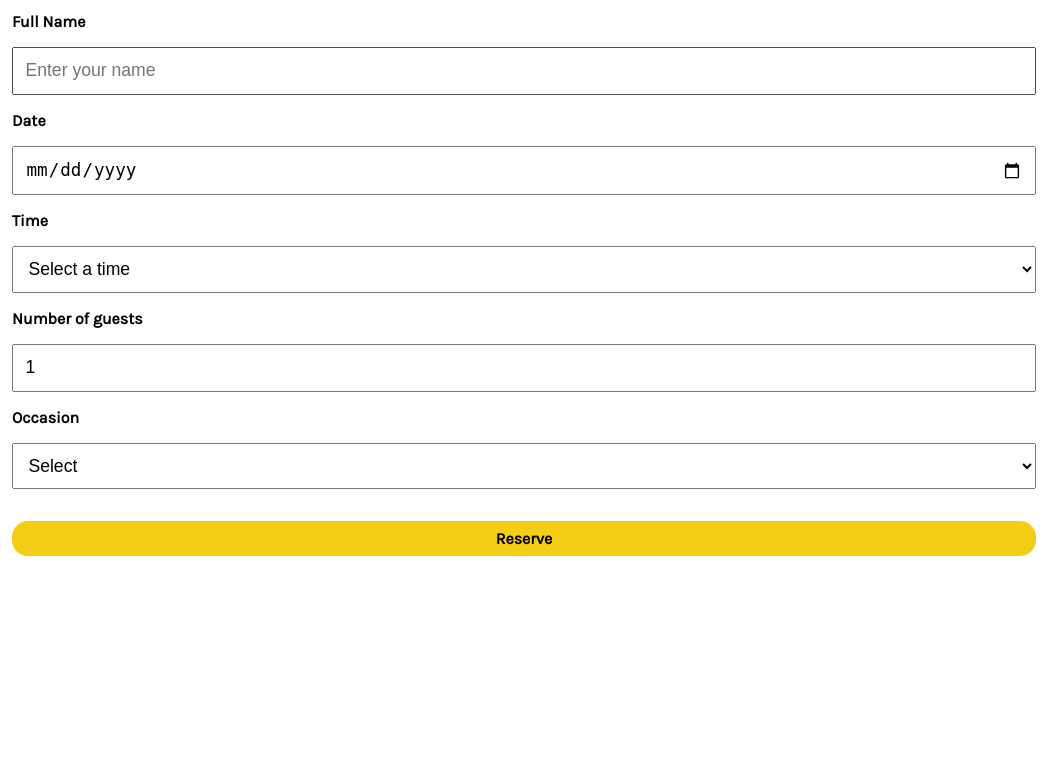
Test: BookingForm › shows error when guests number is too low
Replace the text in the number field labelled "Number of guests" with "0" at point(524, 368), box [12, 344, 1036, 392]
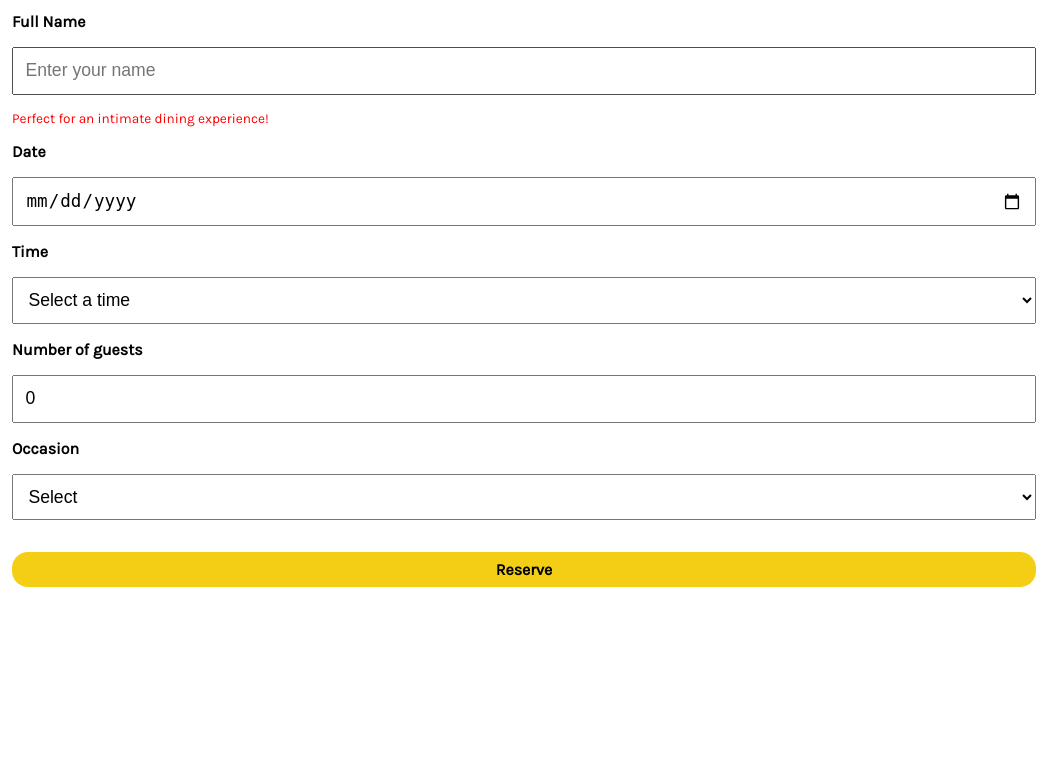
Expected: the text "Perfect for an intimate dining experience!" is shown, [12, 111, 269, 126]
